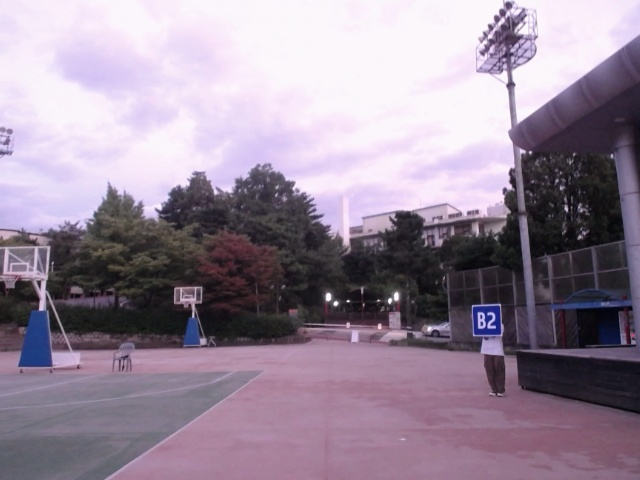delivery_b2: (472, 305, 503, 337)
